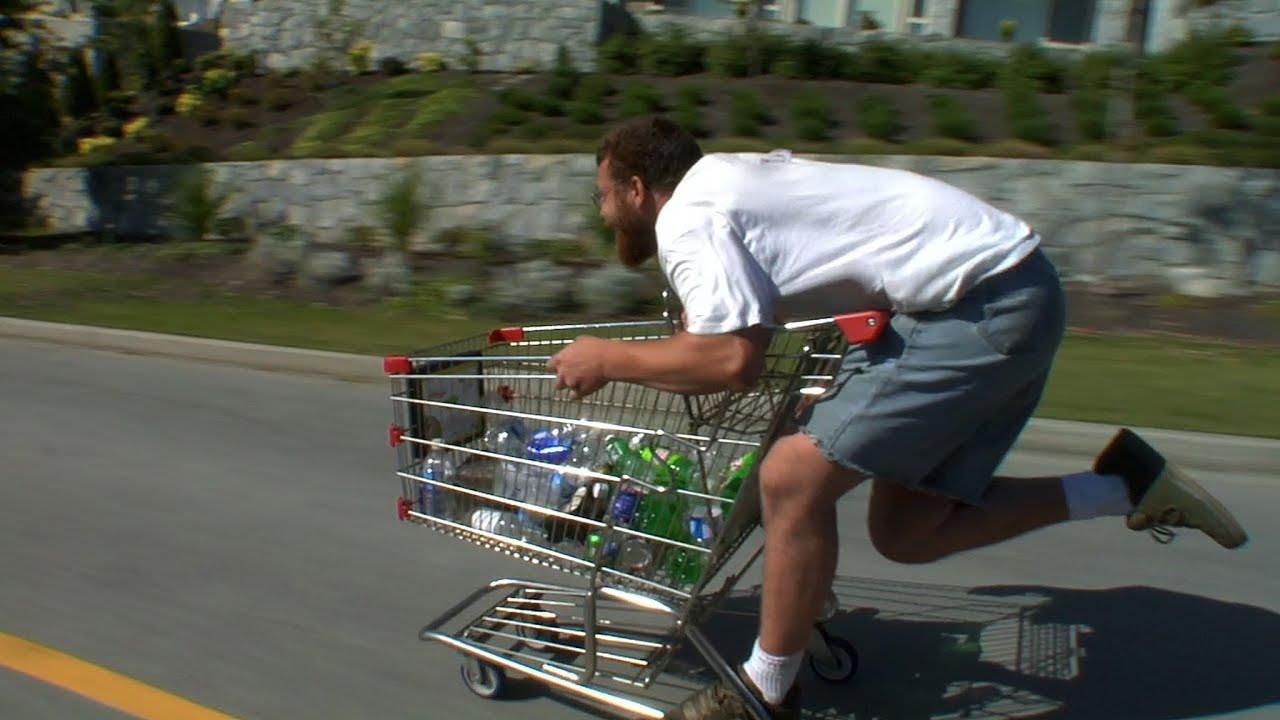Person: (555, 118, 1226, 707)
shopping_cart: (371, 309, 884, 720)
